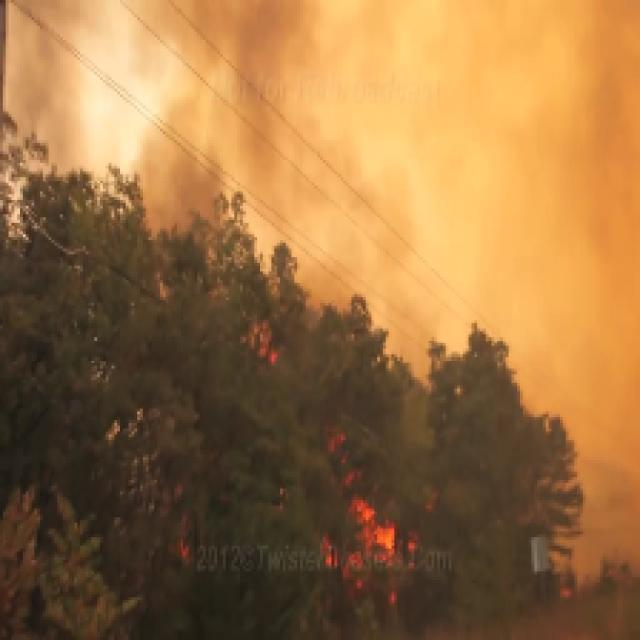Fire: (226, 397, 583, 640)
Smoke: (0, 0, 640, 229)
